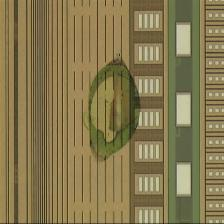COATING BAD: (84, 52, 145, 165)
